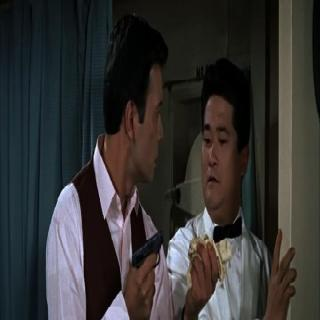gun: (125, 223, 167, 319)
